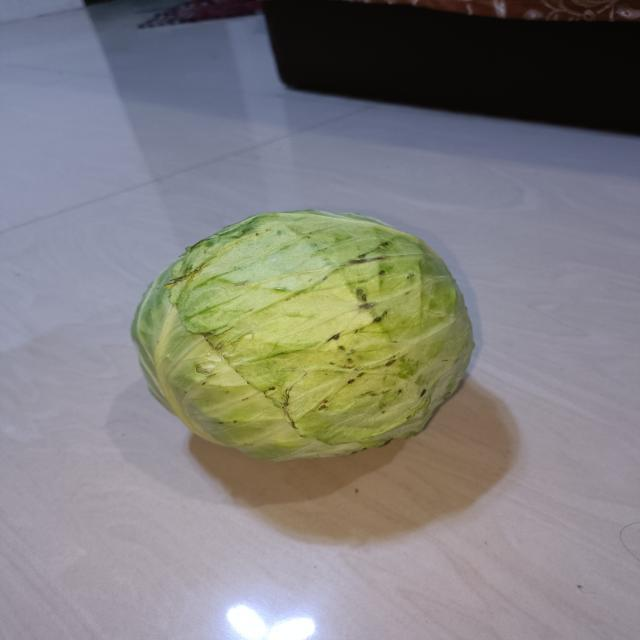cabbage: (129, 208, 479, 465)
